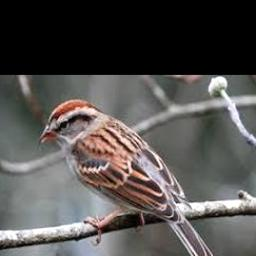Sparrow: (38, 99, 222, 256)
